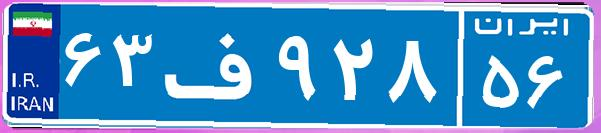2: (330, 28, 385, 110)
3: (110, 28, 158, 105)
5: (475, 38, 525, 113)
6: (57, 26, 110, 107), (525, 38, 570, 115)
8: (385, 28, 445, 110)
9: (273, 28, 330, 110)
ف: (158, 15, 273, 115)
